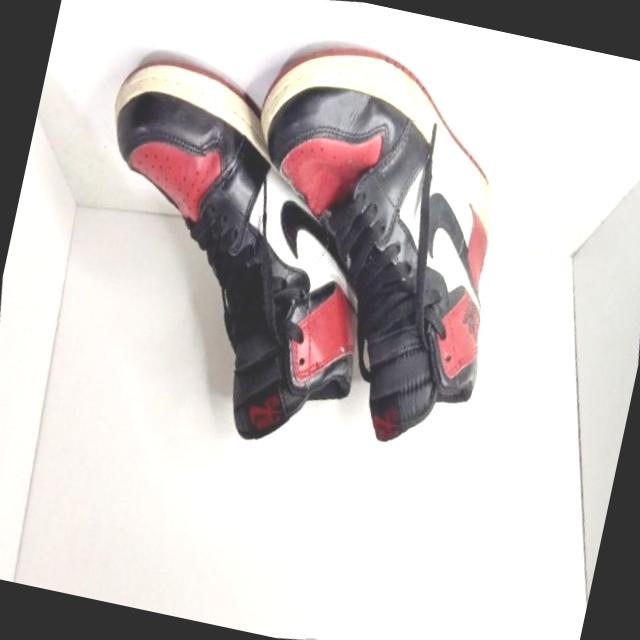nike_fake_jordan: (38, 16, 428, 487), (184, 9, 554, 482)
